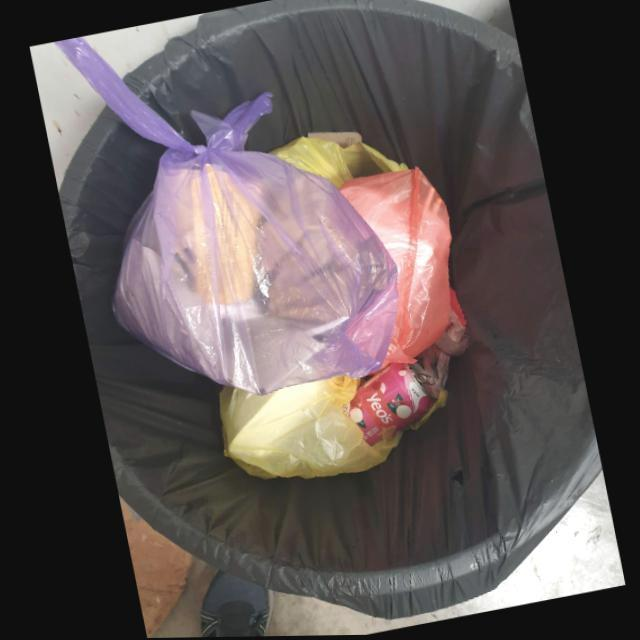aluminum: (340, 364, 432, 447)
plastic_bag: (51, 37, 397, 398), (338, 168, 450, 367), (217, 376, 400, 480), (272, 133, 401, 191)
